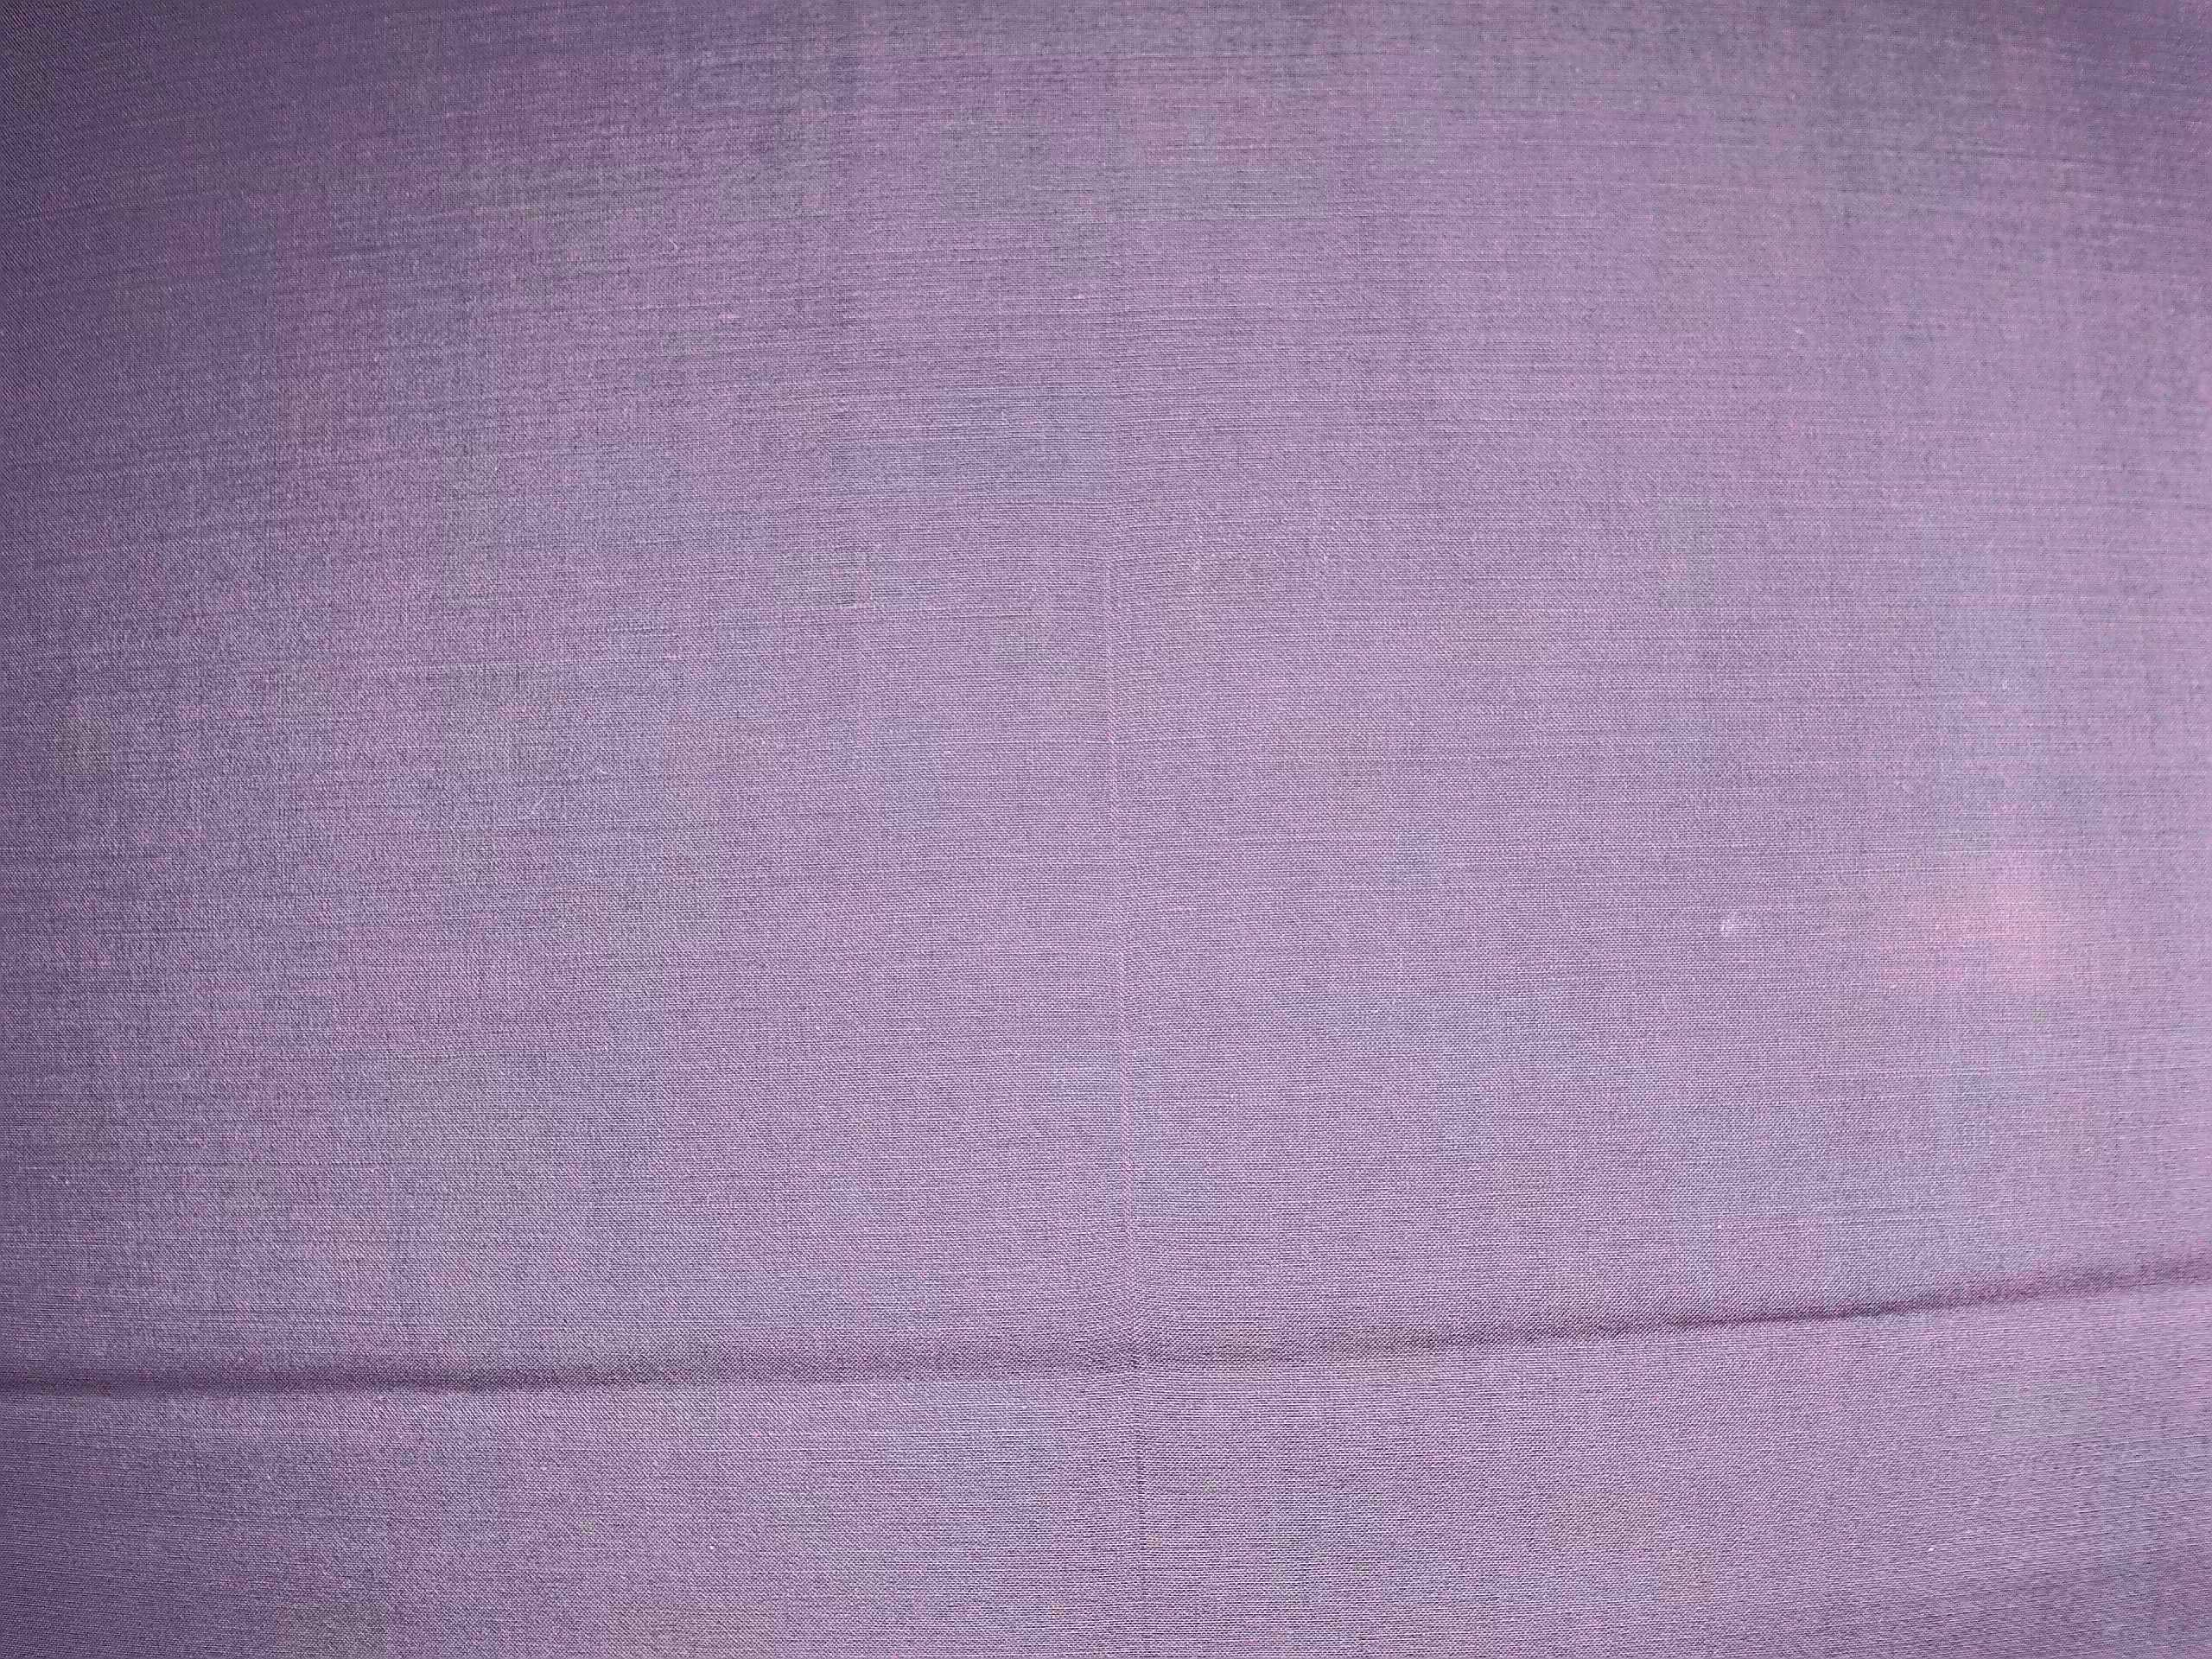hanging-warp: (1085, 556, 1165, 1640)
